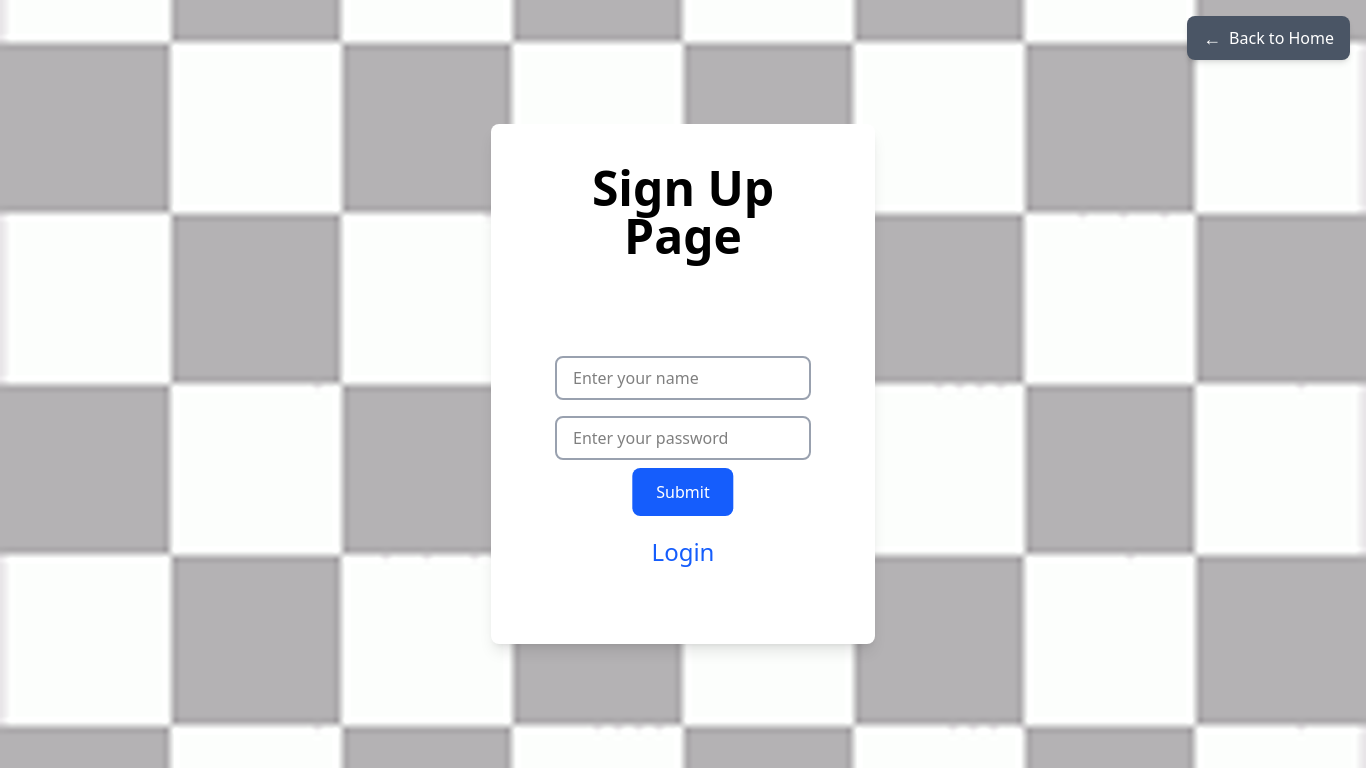
SignUp API interaction › shows error on duplicate username
In the field with placeholder "Enter your name": (683, 378) [555,356,811,400], type "dup"
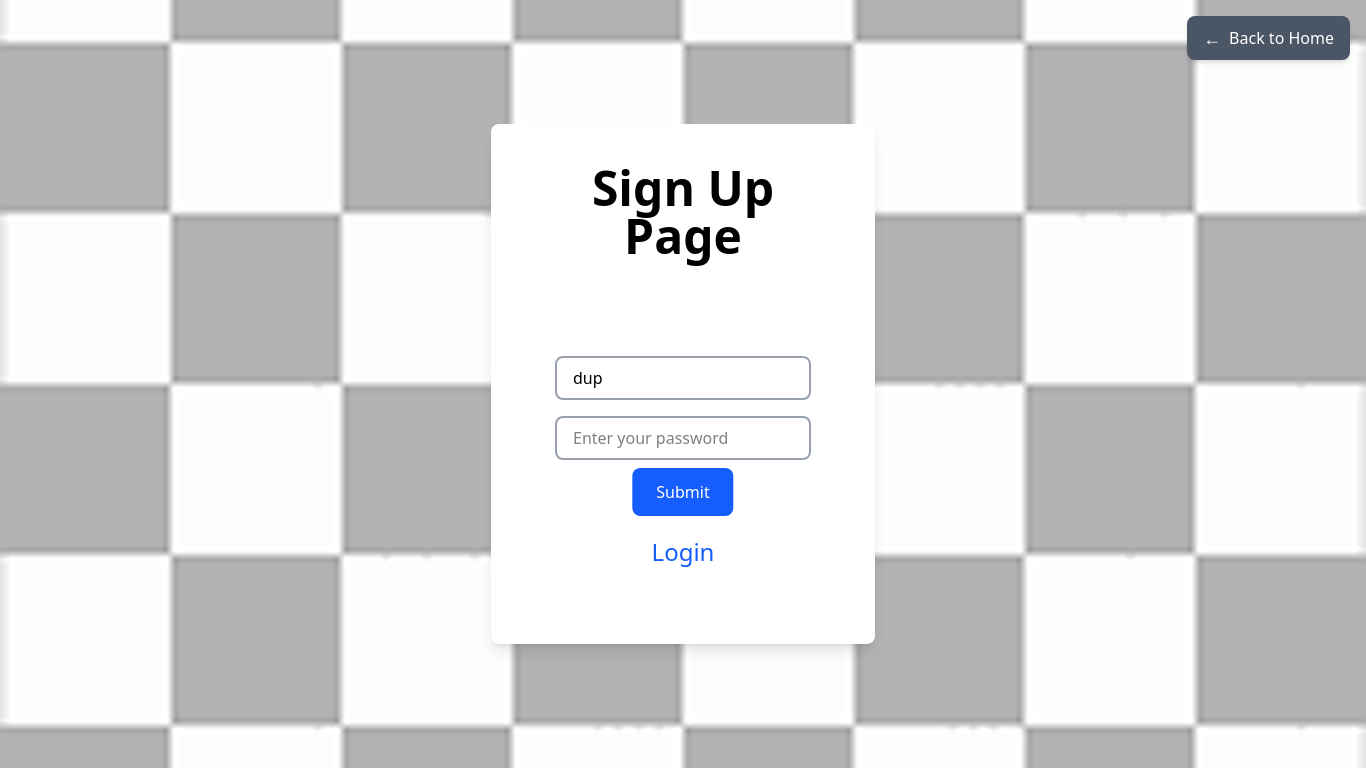
In the password field with placeholder "Enter your password": (683, 438) [555,416,811,460], type "pass"
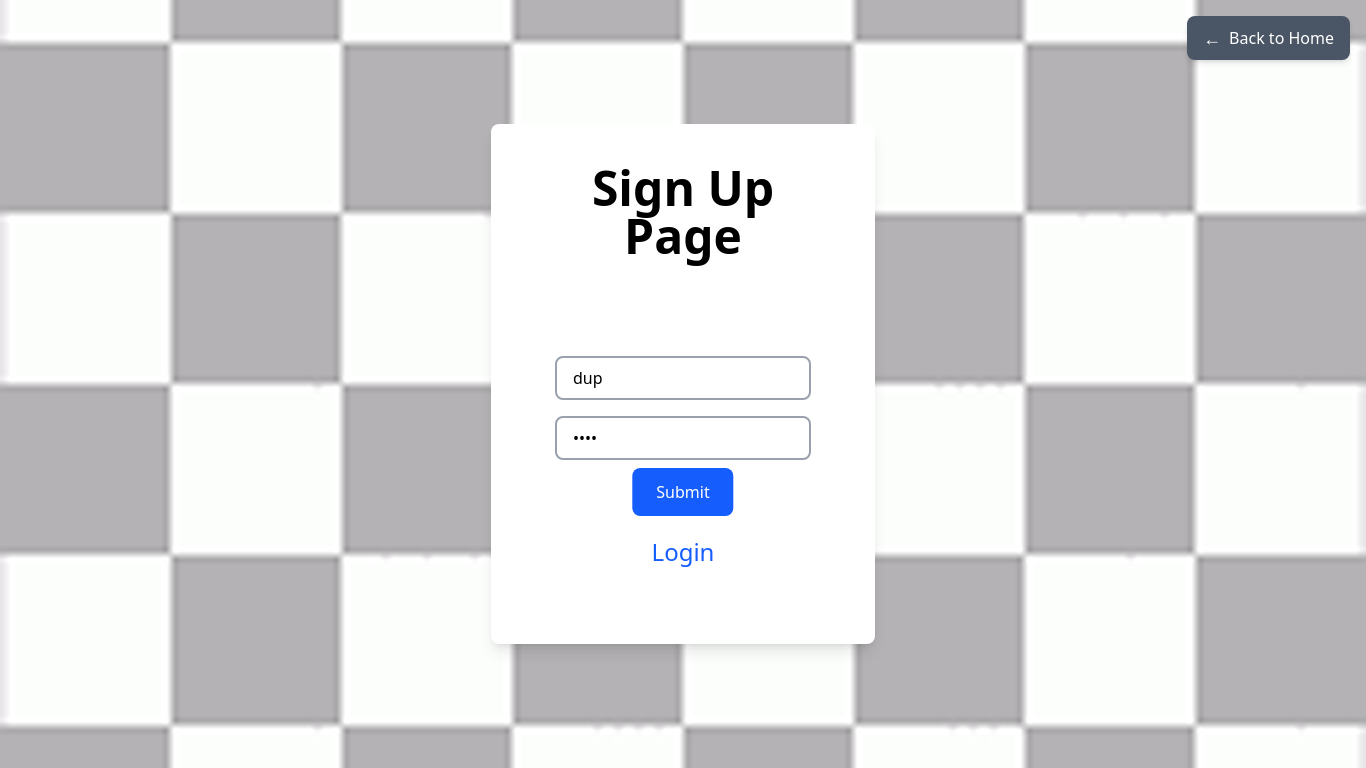
Click the button "Submit": (683, 492) [632,468,734,516]
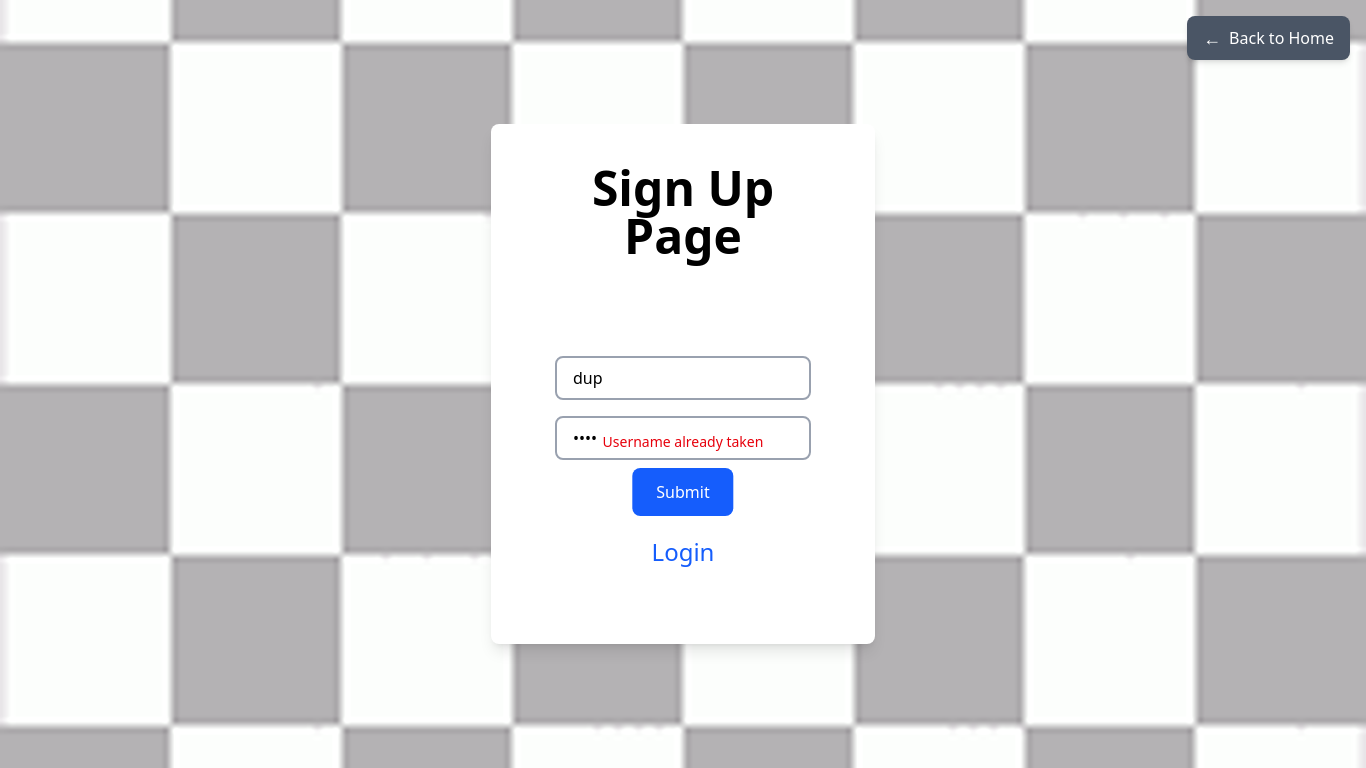
Check: the text "Username already taken" is shown, box [603,432,763,452]
